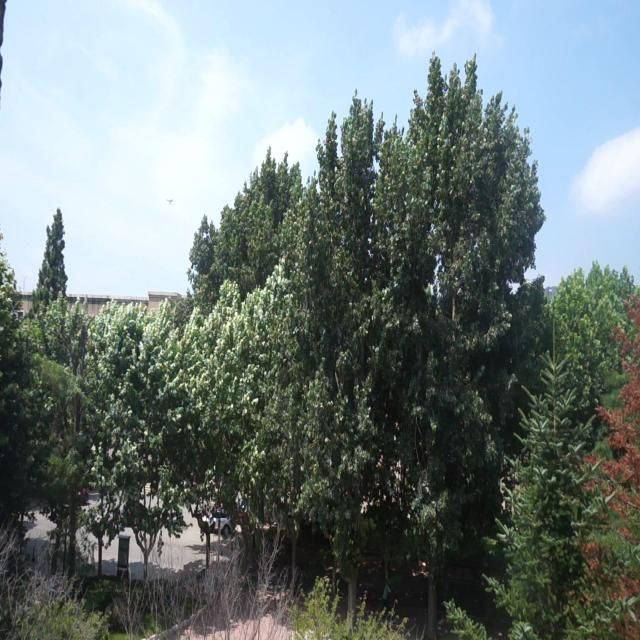drone: (164, 193, 176, 208)
